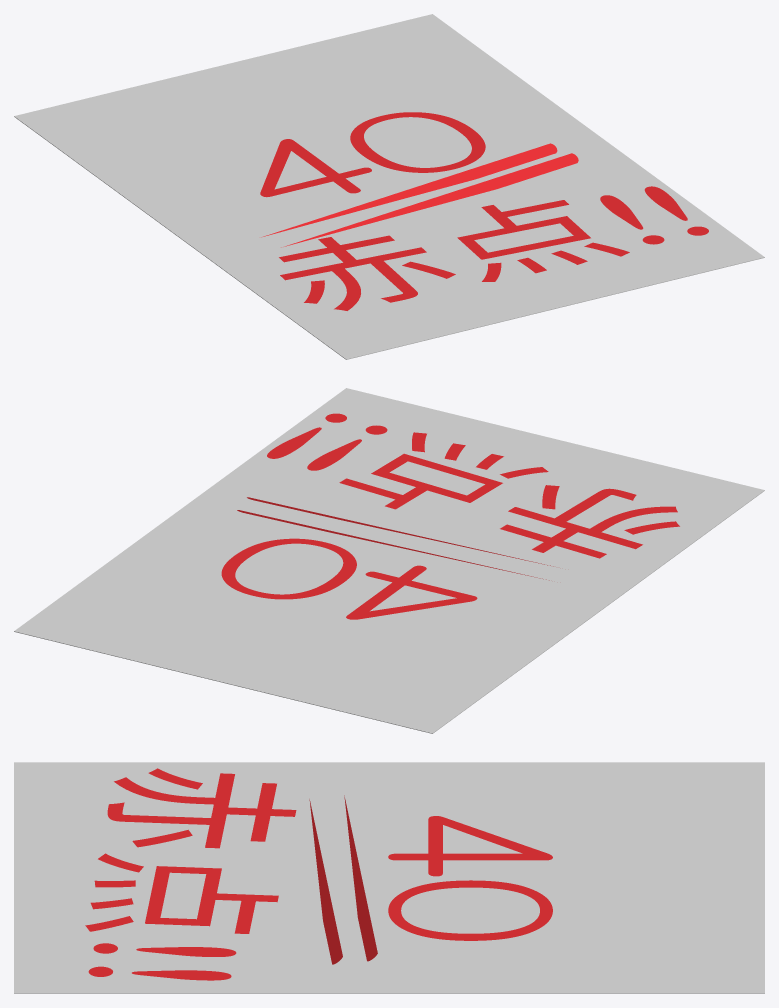
The picture shows the model from 3 angles, top to bottom: view 1: azimuth 30°, elevation 25°; view 2: azimuth 150°, elevation 25°; view 3: azimuth 270°, elevation 25°; orthographic projection. The views are drawn at different scales.
Visible parts, largest first — view 1: 立方体, テキスト.001, テキスト, 立方体.001, 立方体.002; view 2: 立方体, テキスト.001, テキスト, 立方体.001, 立方体.002; view 3: 立方体, テキスト.001, テキスト, 立方体.001, 立方体.002.
Boxes of the visible parts, box(x1,y1,x2,y2) form: 立方体: box(14, 14, 764, 359); テキスト.001: box(279, 186, 708, 310); テキスト: box(260, 112, 485, 197); 立方体.001: box(261, 143, 557, 237); 立方体.002: box(281, 153, 578, 247); 立方体: box(14, 388, 764, 733); テキスト.001: box(267, 413, 679, 558); テキスト: box(221, 538, 477, 619); 立方体.001: box(237, 510, 549, 580); 立方体.002: box(247, 497, 553, 566); 立方体: box(14, 762, 764, 993); テキスト.001: box(85, 768, 296, 980); テキスト: box(388, 816, 552, 940); 立方体.001: box(344, 795, 377, 961); 立方体.002: box(309, 799, 342, 964).
Bounding box in the file's own units: 160 × 9.78 × 220.
